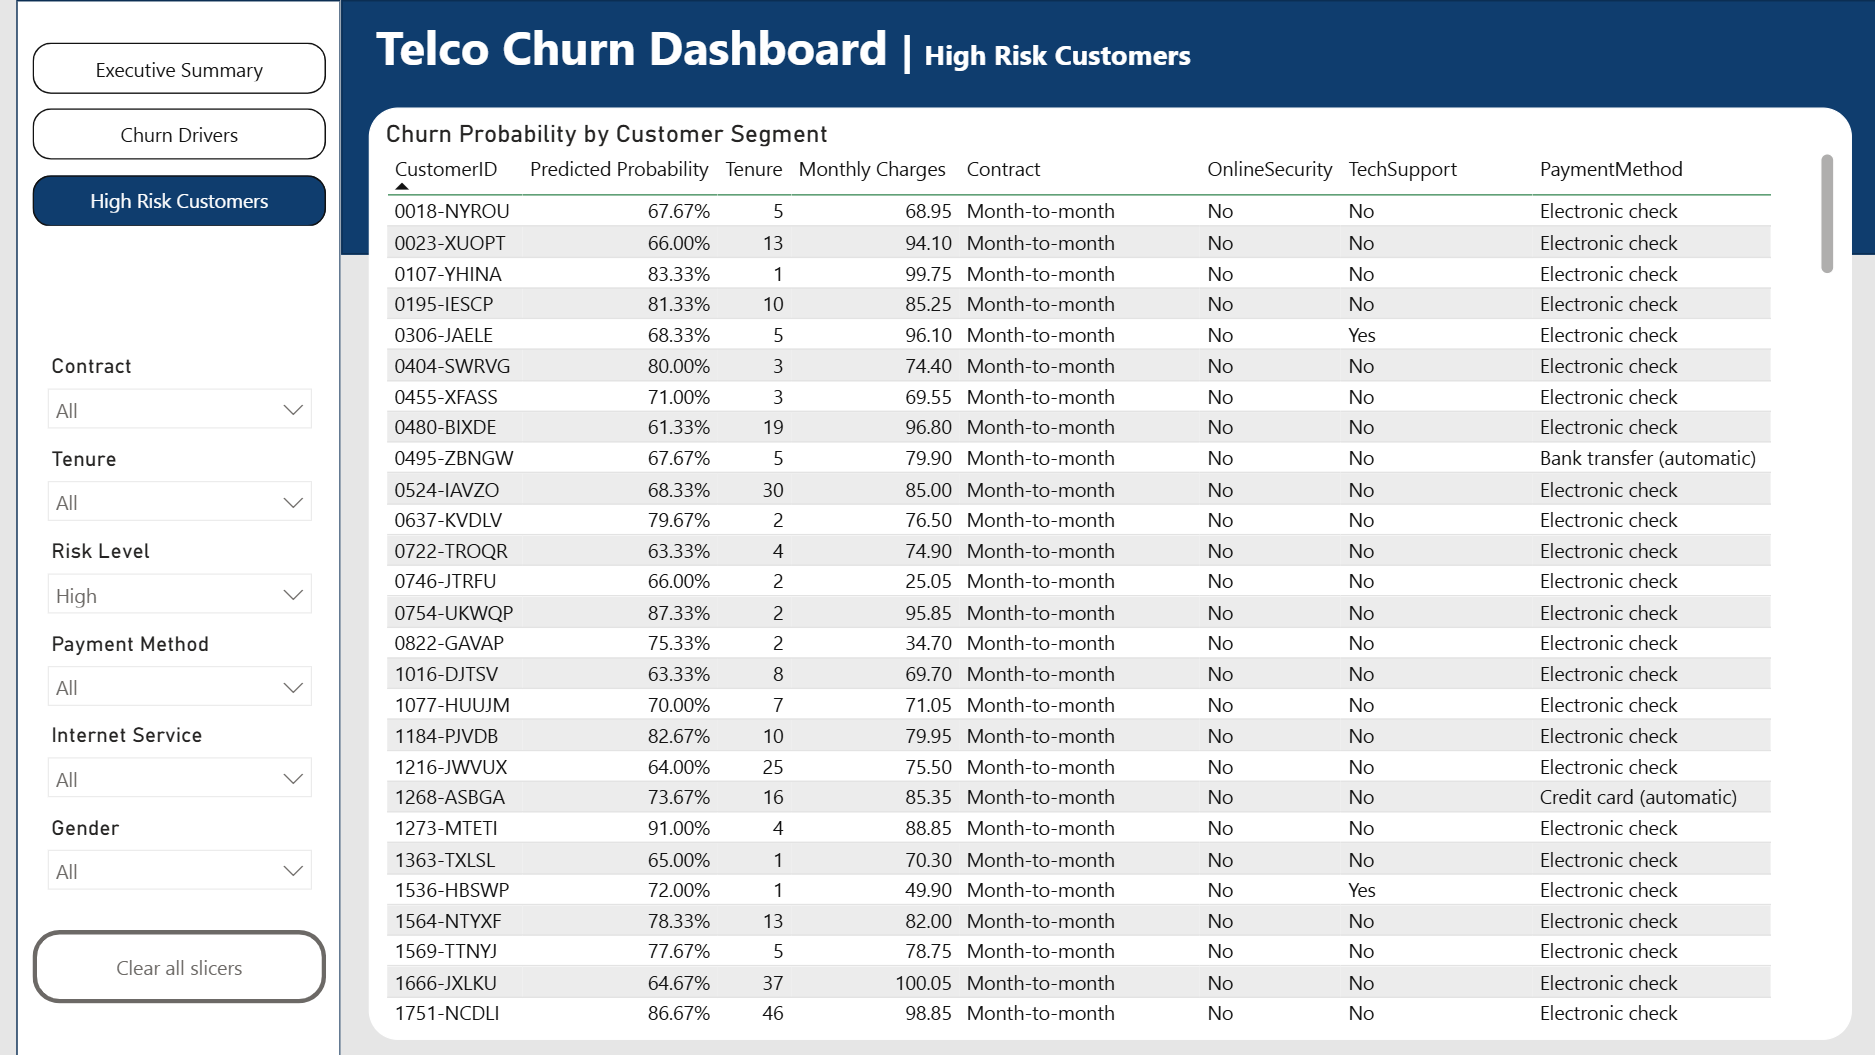

The dashboard page shown, as its layout file describes it:
{"tool":"powerbi","page":{"name":"High Risk Customers","canvas":[1280,720],"ordinal":2},"visuals":[{"type":"slicer","fields":{"Values":["telco_churn churn_model_data.Contract"]},"box":[22.2,235.6,200,63.3],"z":0,"group":"g1"},{"type":"shape","box":[11.1,0,221.1,720],"z":0},{"type":"shape","box":[232.2,0,1047.8,173.3],"z":1000},{"type":"slicer","fields":{"Values":["telco_churn churn_model_data.tenure"]},"box":[22.2,298.5,200,63.3],"z":1000,"group":"g1"},{"type":"slicer","fields":{"Values":["telco_churn churn_model_data.InternetService"]},"box":[22.2,487.2,200,63.3],"z":2000,"group":"g1"},{"type":"slicer","fields":{"Values":["telco_churn churn_model_data.PaymentMethod"]},"box":[22.2,424.3,200,63.3],"z":3000,"group":"g1"},{"type":"slicer","fields":{"Values":["telco_churn churn_predictions.risk_bucket"]},"box":[22.2,361.4,200,63.3],"z":4000,"group":"g1"},{"type":"tableEx","title":"Churn Probability by Customer Segment","fields":{"Values":["Churn_prediction.customerID","telco_churn churn_predictions.Predicted Probability","Sum(Churn_prediction.tenure)","Sum(Churn_prediction.MonthlyCharges)","Churn_prediction.Contract","Churn_prediction.OnlineSecurity","Churn_prediction.TechSupport","Churn_prediction.PaymentMethod"]},"box":[251,73.3,1010.3,635],"z":5000},{"type":"slicer","fields":{"Values":["telco_churn churn_model_data.gender"]},"box":[22.2,550,200,63.3],"z":5000,"group":"g1"},{"type":"pageNavigator","box":[22.4,28.6,200.1,126.8],"z":6000},{"type":"actionButton","box":[22.2,633.3,200,50],"z":7000},{"type":"textbox","box":[251,5,657.4,57.2],"z":8000},{"type":"group","id":"g1","title":"Group 2","box":[22.2,235.6,200,377.8],"z":9000},{"type":"textbox","box":[252.2,62.2,655.6,41.1],"z":10000}]}

Visuals, with their boxes in screenshot pixels (x1, y1, x2, y2), scaled from the page's 1280x720 canvas onto the 1875x1055 screenshot:
slicer - telco_churn churn_model_data.Contract: l=33, t=345, r=325, b=438
shape: l=16, t=0, r=340, b=1054
shape: l=340, t=0, r=1874, b=254
slicer - telco_churn churn_model_data.tenure: l=33, t=437, r=325, b=530
slicer - telco_churn churn_model_data.InternetService: l=33, t=714, r=325, b=807
slicer - telco_churn churn_model_data.PaymentMethod: l=33, t=622, r=325, b=714
slicer - telco_churn churn_predictions.risk_bucket: l=33, t=530, r=325, b=622
"Churn Probability by Customer Segment" tableEx: l=368, t=107, r=1848, b=1038
slicer - telco_churn churn_model_data.gender: l=33, t=806, r=325, b=899
pageNavigator: l=33, t=42, r=326, b=228
actionButton: l=33, t=928, r=325, b=1001
textbox: l=368, t=7, r=1331, b=91
"Group 2" group: l=33, t=345, r=325, b=899
textbox: l=369, t=91, r=1330, b=151
